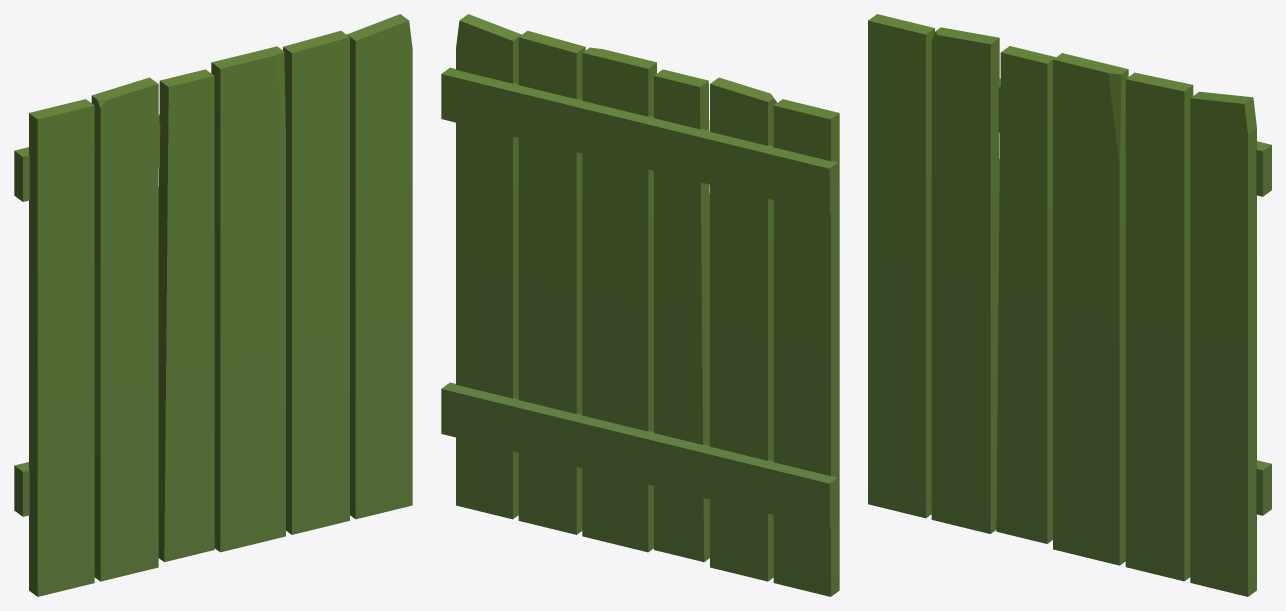
The model's file is Fence_01.fbx.
3 views of the same model, side by side, from view 1: azimuth 30°, elevation 25°; view 2: azimuth 150°, elevation 25°; view 3: azimuth 330°, elevation 25° (orthographic).
Parts seen in each view (by area): view 1: Fence_01; view 2: Fence_01; view 3: Fence_01.
Part boxes in pixels (left/top/right/bottom): Fence_01: left=14, top=14, right=412, bottom=596; Fence_01: left=441, top=14, right=839, bottom=596; Fence_01: left=868, top=14, right=1271, bottom=596.
Bounding box in the file's own units: 1.02 × 1.22 × 0.0766.
